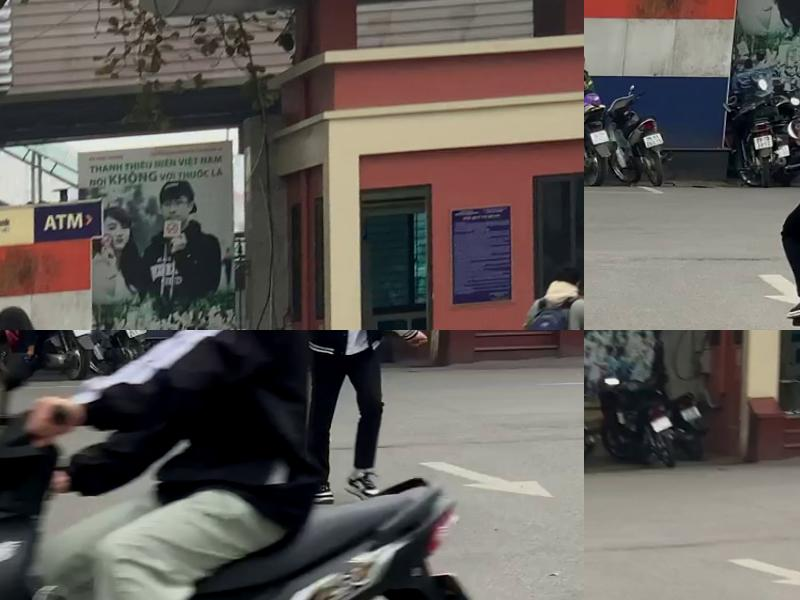license_plate: (755, 129, 779, 152), (644, 129, 668, 151), (655, 412, 679, 434), (687, 403, 708, 424), (593, 129, 614, 147), (72, 330, 95, 338), (127, 330, 150, 338)
